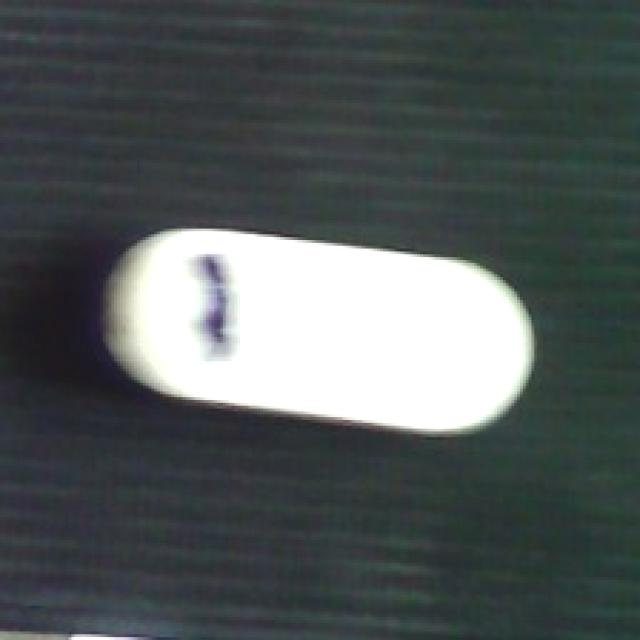defected: (94, 229, 540, 434)
